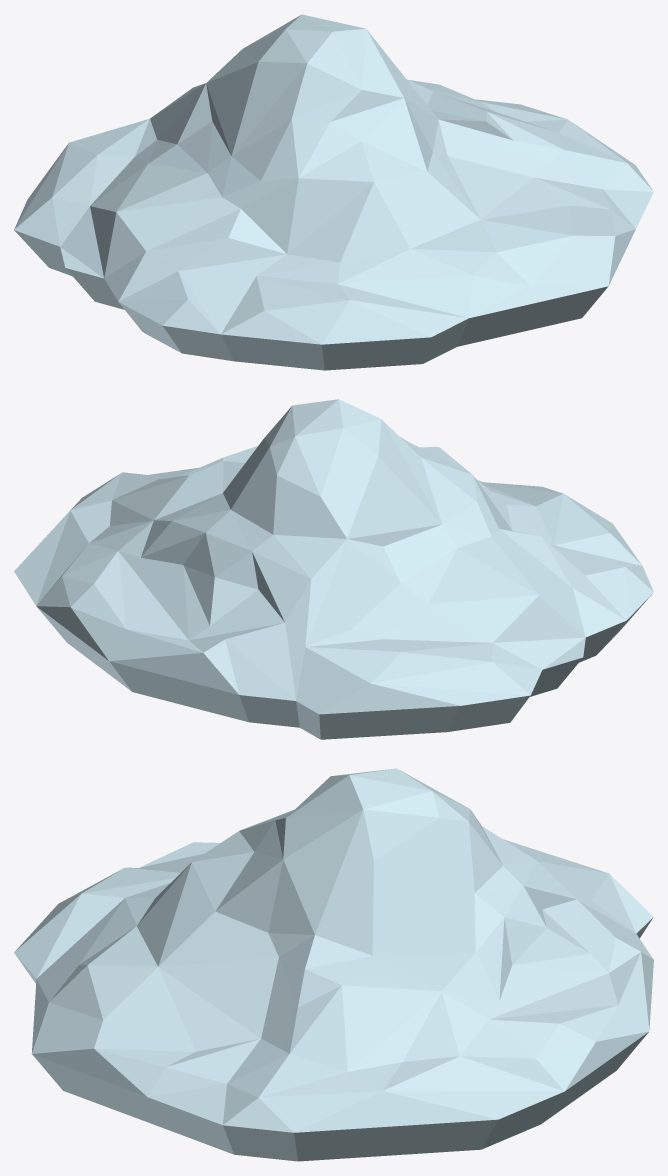
File: SM_Env_SnowPile_01.gltf
The picture shows the model from 3 angles, top to bottom: view 1: azimuth 30°, elevation 25°; view 2: azimuth 150°, elevation 25°; view 3: azimuth 270°, elevation 25°; orthographic projection. The views are drawn at different scales.
Visible parts, largest first — view 1: SM_Env_SnowPile_01; view 2: SM_Env_SnowPile_01; view 3: SM_Env_SnowPile_01.
Boxes of the visible parts, left/top/right/bottom form: SM_Env_SnowPile_01: left=14, top=14, right=653, bottom=370; SM_Env_SnowPile_01: left=14, top=399, right=653, bottom=739; SM_Env_SnowPile_01: left=14, top=768, right=653, bottom=1161.
Bounding box in the file's own units: 2.95 × 1.18 × 2.74.
Materials: 1 (1 with a texture image).
